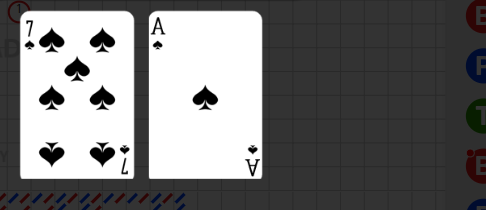AS: (242, 141, 260, 177), (150, 15, 166, 52)
